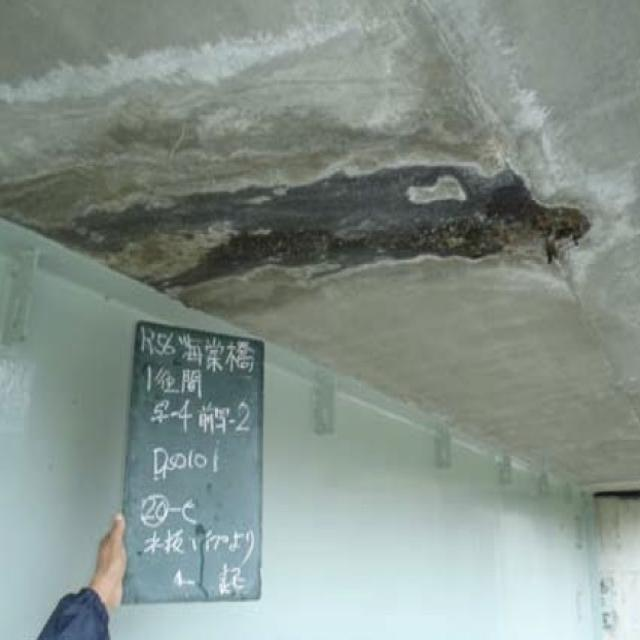leakage: (53, 117, 597, 312)
